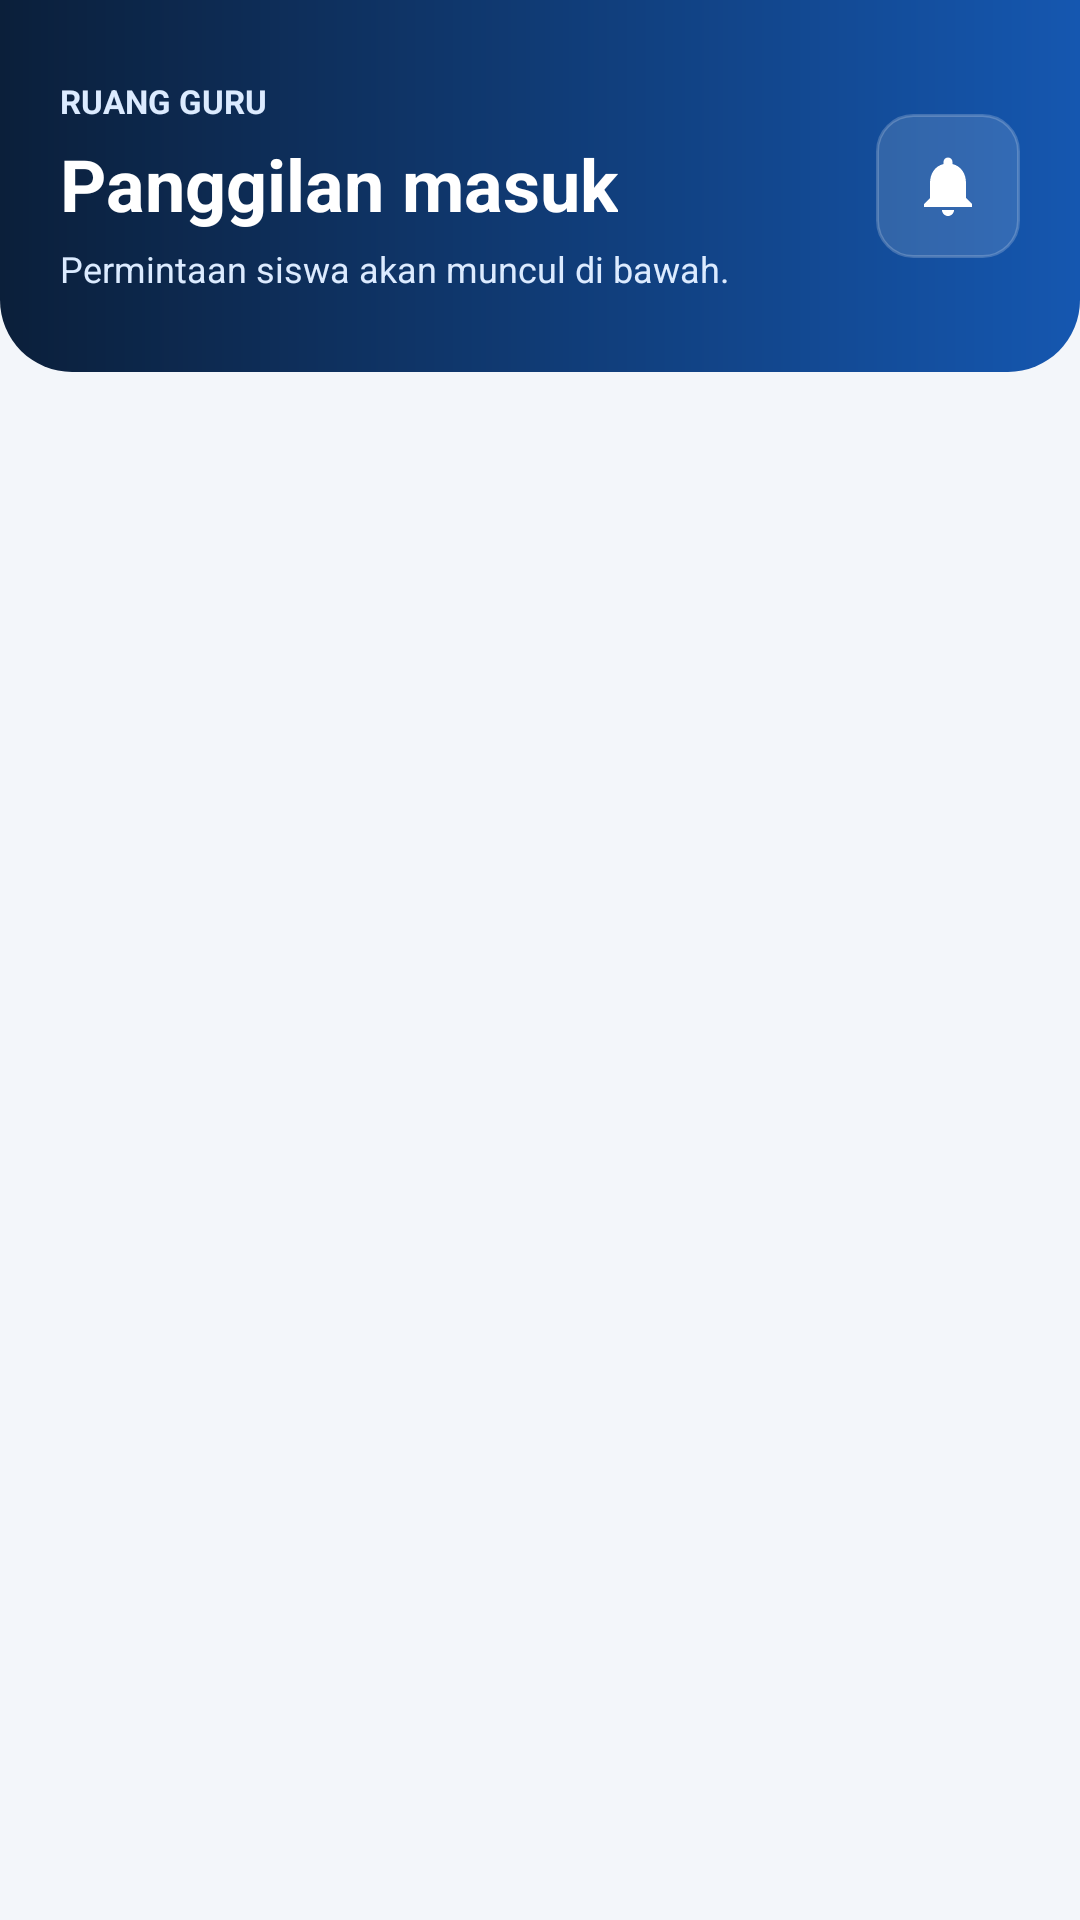

Where icons sit on this 1080px×1920px app screen, as (x1, y1, x2, y2):
bell: (876, 114, 1020, 258)
